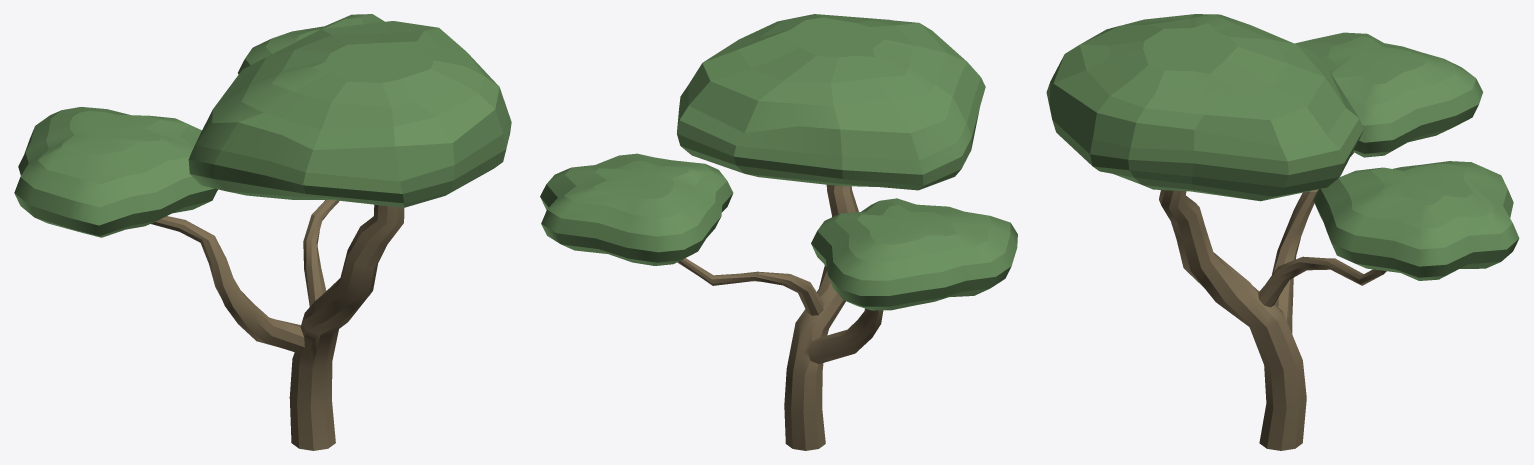
File: arbre01.fbx
3 renders of one model, left to right at view 1: azimuth 30°, elevation 25°; view 2: azimuth 150°, elevation 25°; view 3: azimuth 270°, elevation 25°, orthographic. The views are drawn at different scales.
Parts seen in each view (by area): view 1: arbre01; view 2: arbre01; view 3: arbre01.
Part boxes in pixels (bbox=[...]): arbre01: bbox=[14, 14, 511, 450]; arbre01: bbox=[540, 14, 1017, 450]; arbre01: bbox=[1046, 14, 1519, 450].
Bounding box in the file's own units: 14.09 × 11.74 × 12.58.
